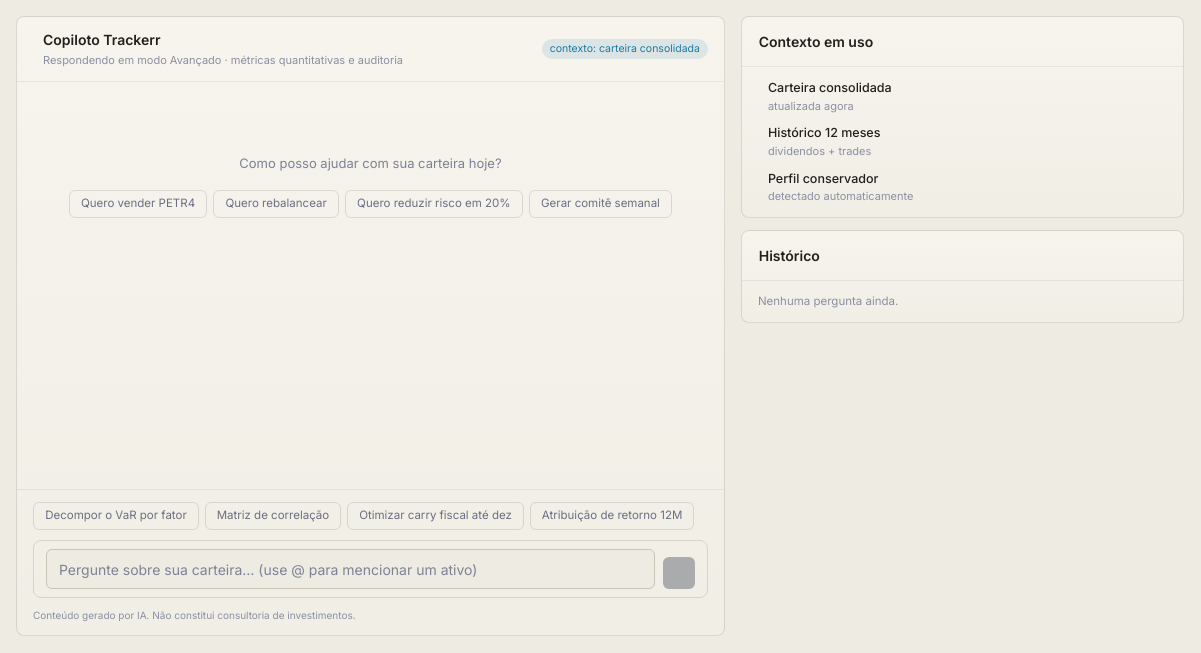
ChatInteligente › sends prompt chip question when clicked
Step 1. Type "Compare PETR4 e VALE3" into the field → (350, 569), box [46,549,655,589]
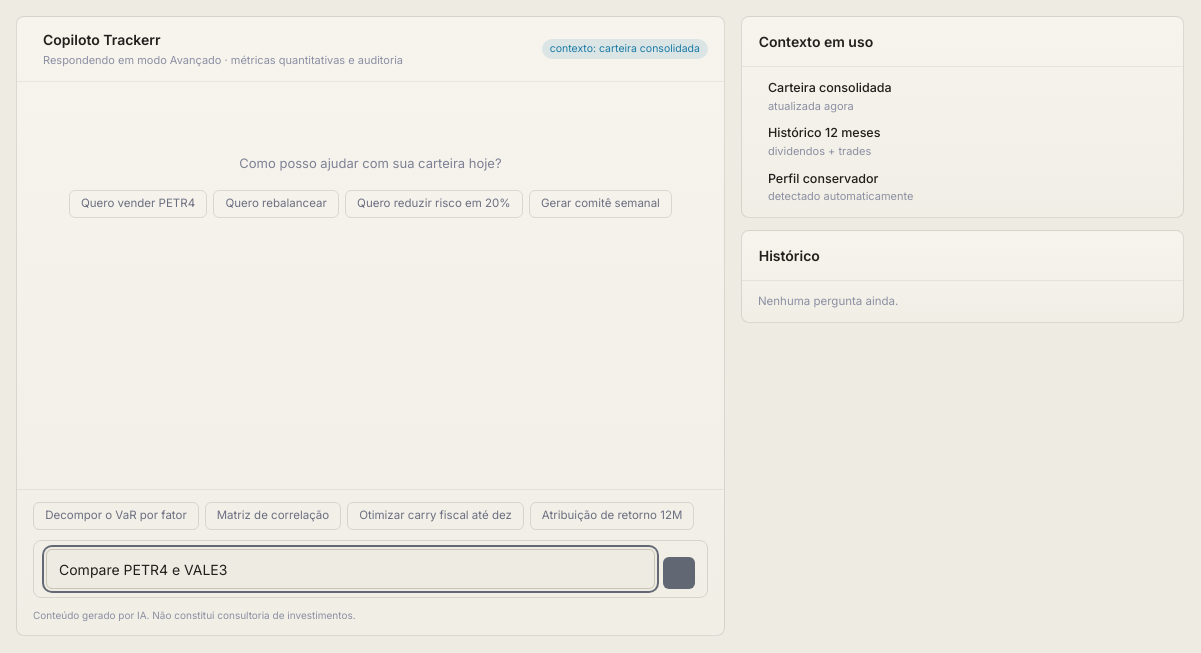
Step 2. Click the button named "Enviar" → (679, 573), box [663,557,695,589]
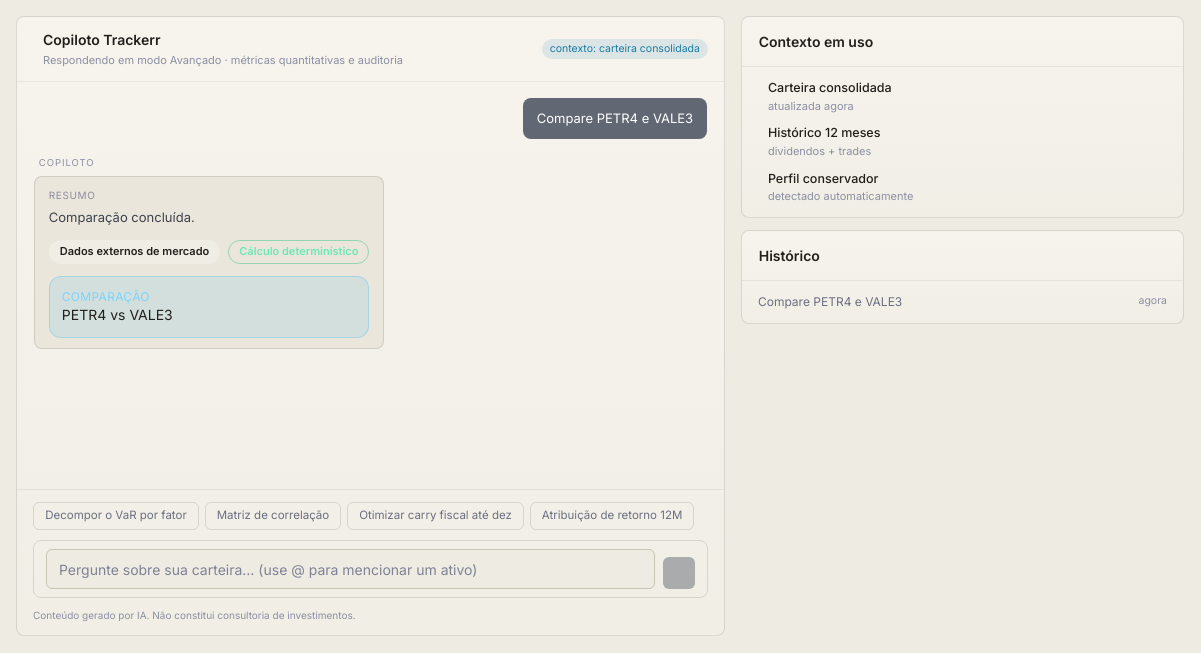
Now the text "Comparação concluída." is shown, box [49,209,195,225]
